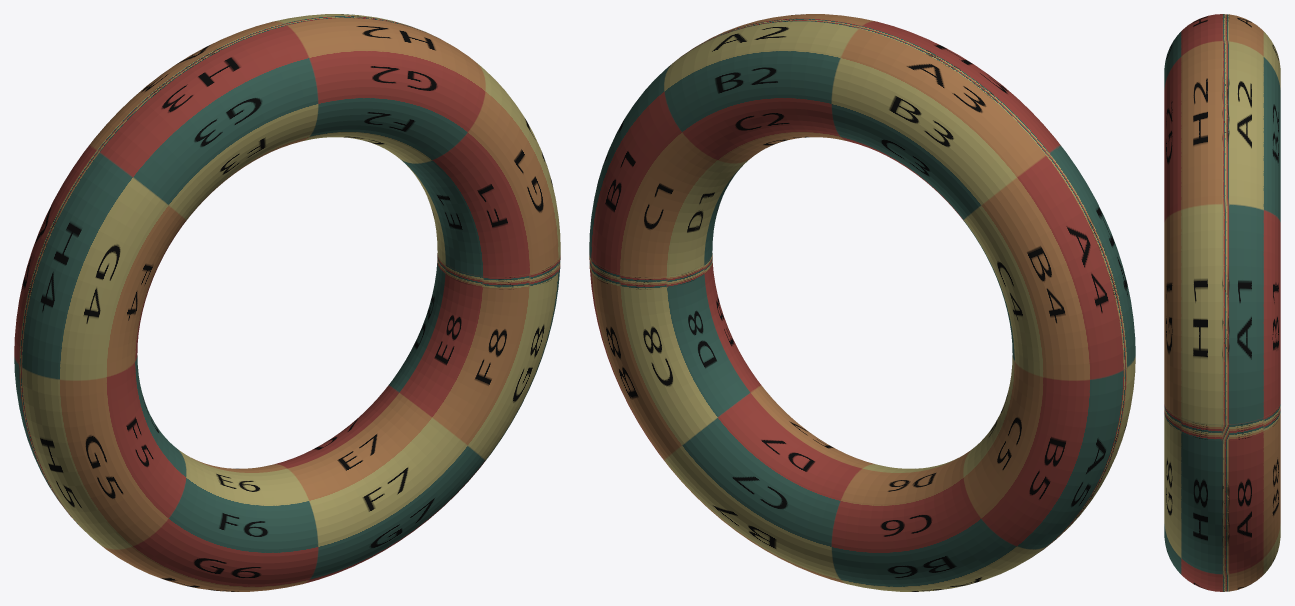
Rendered from texture_torus_R7_r5.glb.
3 renders of one model, left to right at view 1: azimuth 30°, elevation 25°; view 2: azimuth 150°, elevation 25°; view 3: azimuth 270°, elevation 25°, orthographic. The views are drawn at different scales.
Parts seen in each view (by area): view 1: world; view 2: world; view 3: world.
Part boxes in pixels (x1,y1,x2,y2): world: (14, 14, 560, 591); world: (589, 14, 1135, 591); world: (1164, 14, 1280, 591).
Size of the model in its own units: 32 by 32 by 6.43.
1 material, 1 textured.
